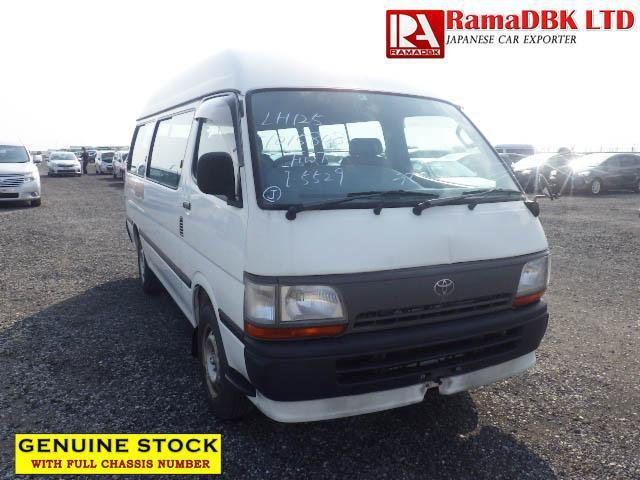Van: (113, 55, 552, 415)
